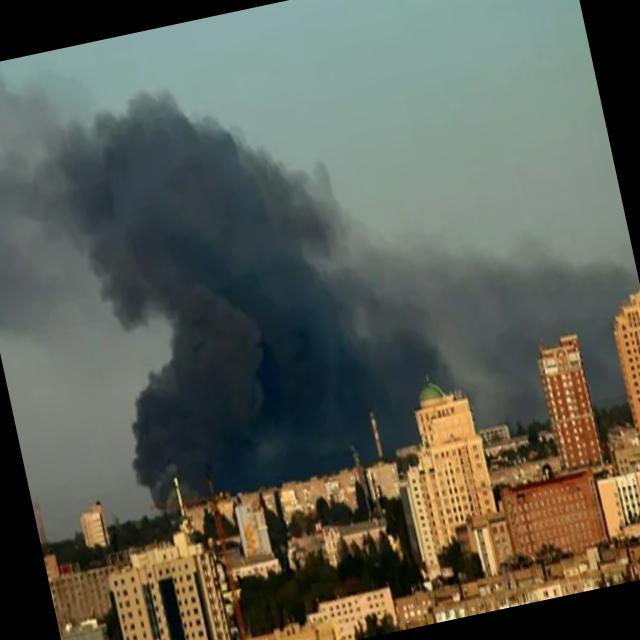Smoke: (45, 36, 485, 516)
